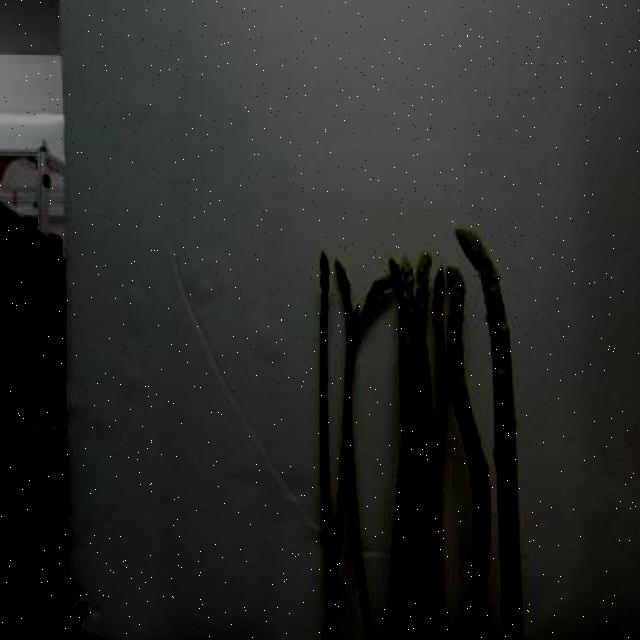aspargus: (456, 230, 526, 640), (447, 266, 493, 640)
